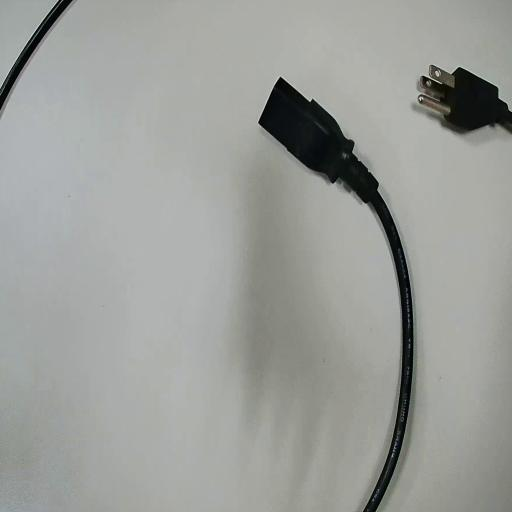wire: (260, 79, 412, 511), (429, 68, 511, 131)
